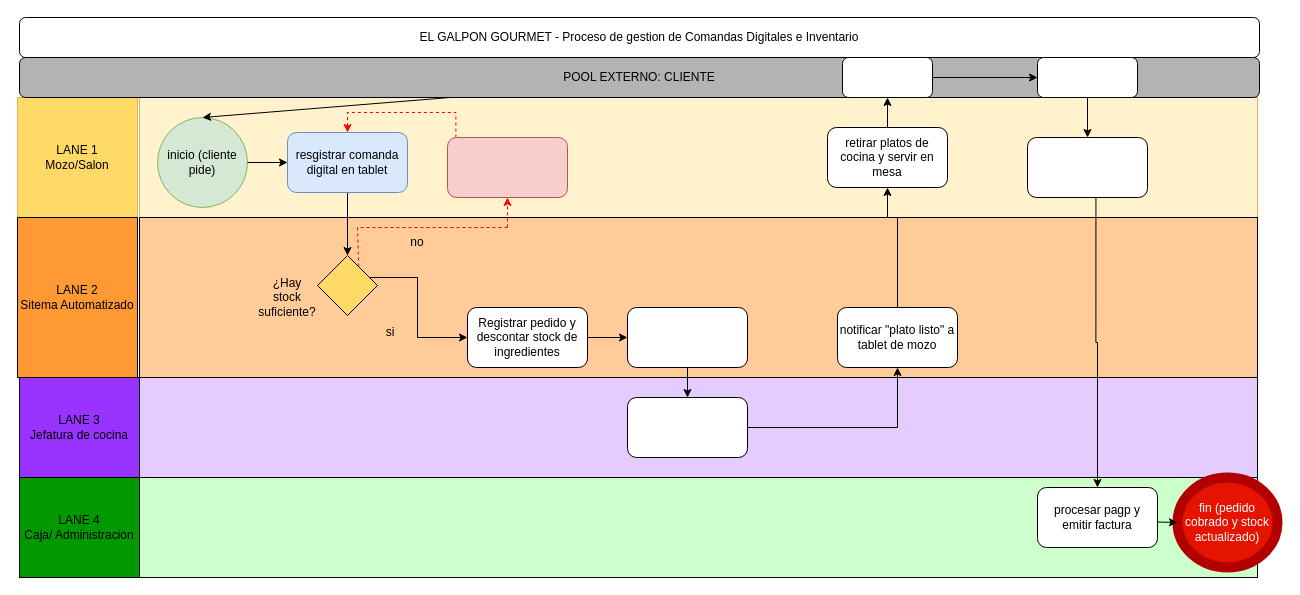
This 1300x595 diagram has some shape labels left out. Here are the shapes that lost their labels. From the top down, the box of each, then its label:
(842, 56, 932, 98): recibe el plato
(1036, 56, 1138, 98): solicita la cuenta
(446, 136, 568, 198): mozo informa al cliente y reevalua
(1026, 136, 1148, 198): solicitar cobro desde tablet
(626, 306, 748, 368): enviar comanda a la pantalla kds de cocina
(626, 396, 748, 458): preparar platos y marcar "plato listo"
